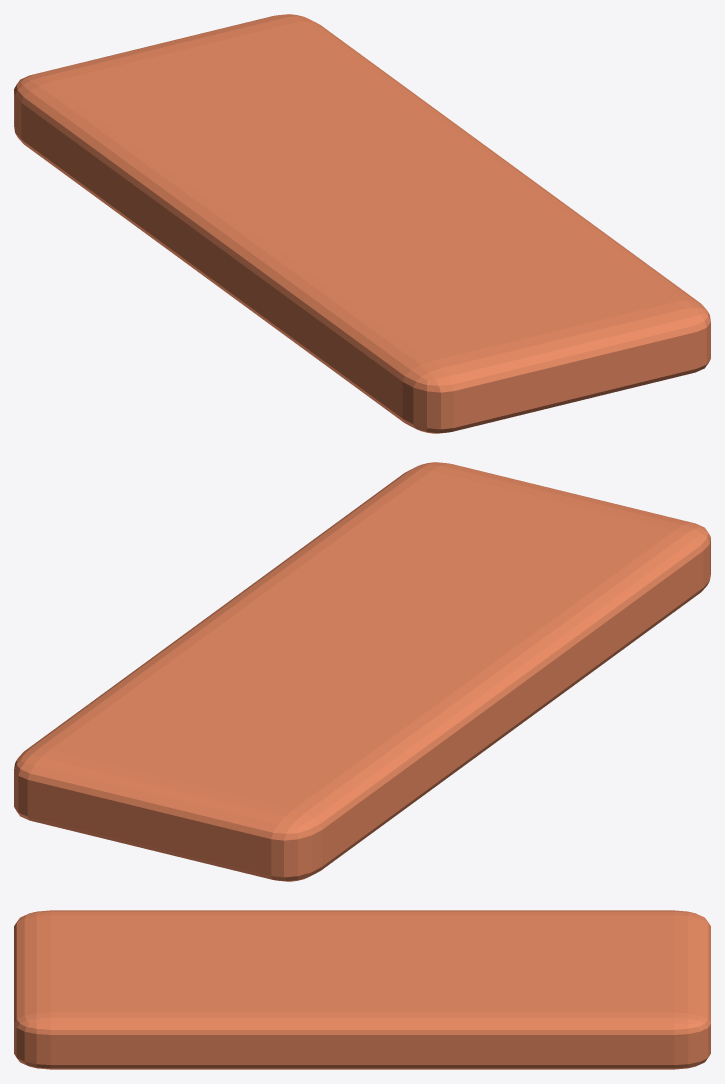
The model's file is SHELF 1.fbx.
The picture shows the model from 3 angles, top to bottom: view 1: azimuth 30°, elevation 25°; view 2: azimuth 150°, elevation 25°; view 3: azimuth 270°, elevation 25°; orthographic projection. The views are drawn at different scales.
Visible parts, largest first — view 1: SHELF; view 2: SHELF; view 3: SHELF.
Boxes of the visible parts, x1,y1,x2,y2 form: SHELF: [14, 14, 710, 433]; SHELF: [14, 462, 710, 881]; SHELF: [14, 910, 710, 1069].
Size of the model in its own units: 209 by 42.31 by 512.
